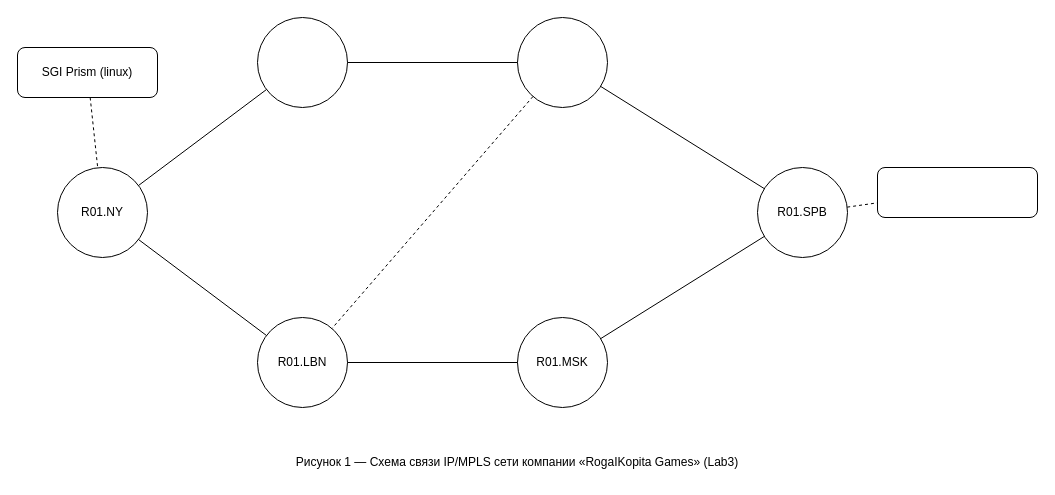
Image size: 1055x495. Some labels were removed from this diagram. The shapes that lost their labels are listed below. From the top down, each one's centre as x and y in pixels, then its label:
(x=302, y=62): R01.LND
(x=562, y=62): R01.HKI
(x=957, y=192): PC1 (SPB, linux)
